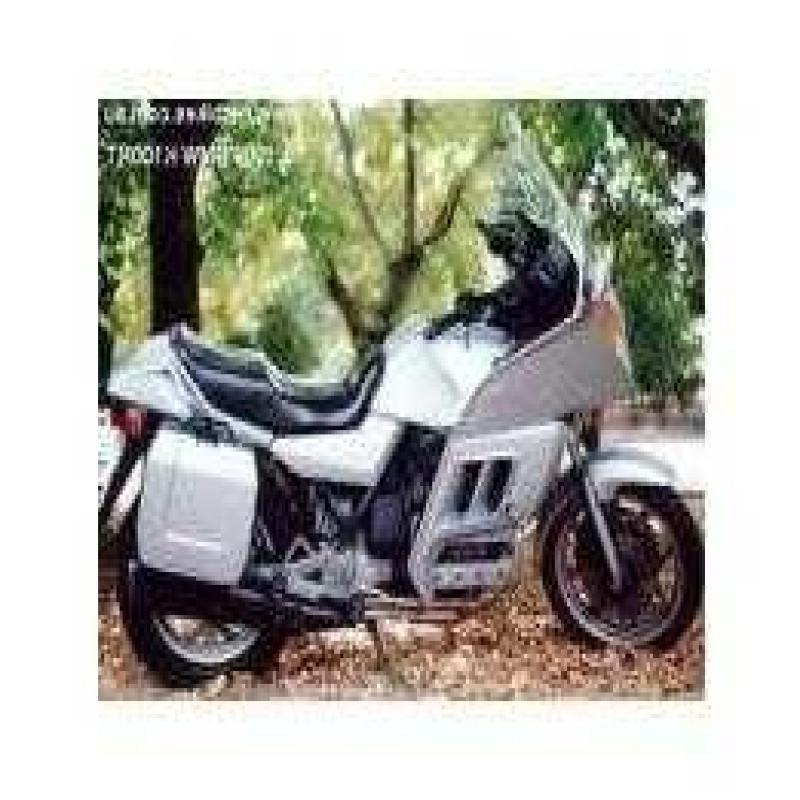bike: (109, 159, 702, 686)
